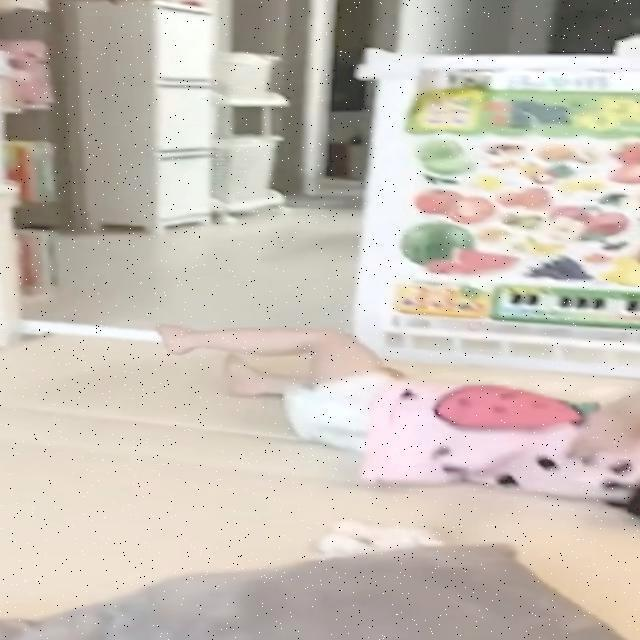child: (149, 320, 640, 521)
